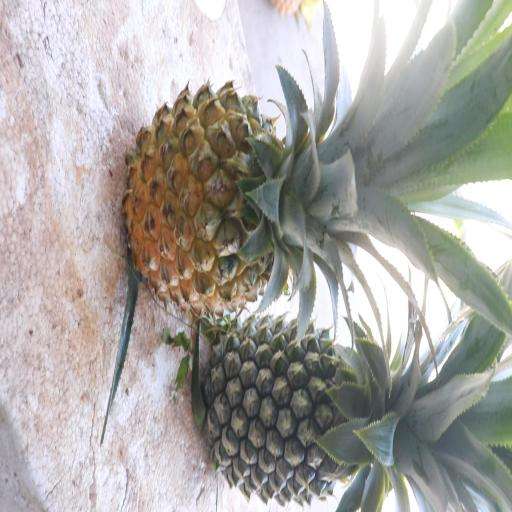Pineapple - v8 v1: (123, 88, 394, 323)
